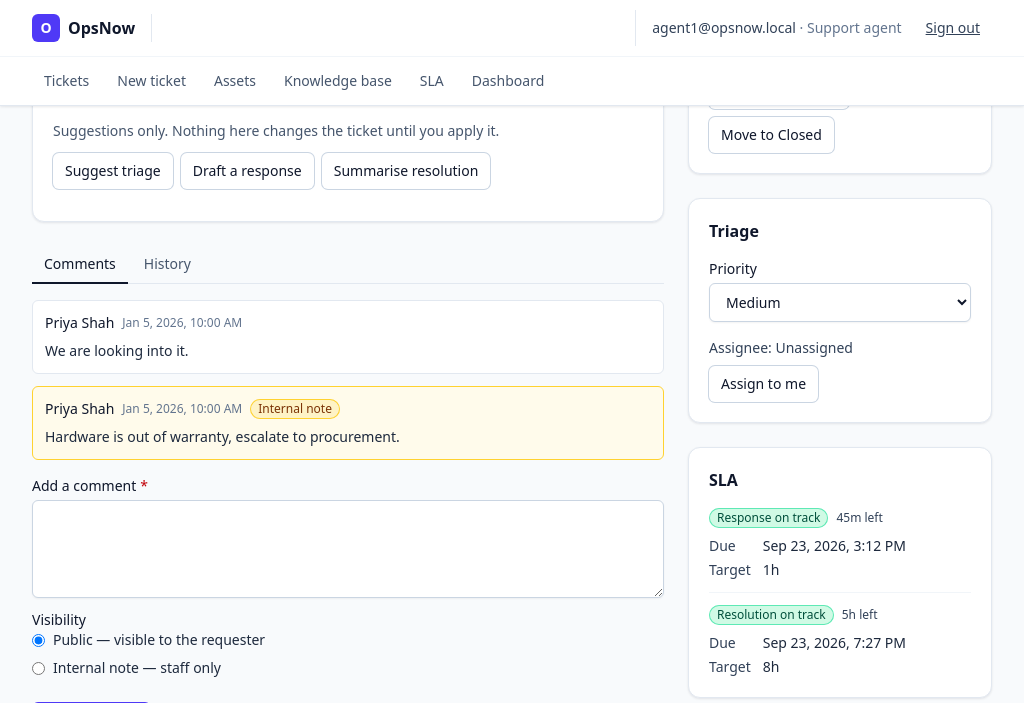
ticket detail — mutations › assigns the ticket to the signed-in agent and then unassigns it
(page scrolled)
Click the button "Assign to me" at {"x": 764, "y": 384}, box [709,366,818,402]
(page scrolled)
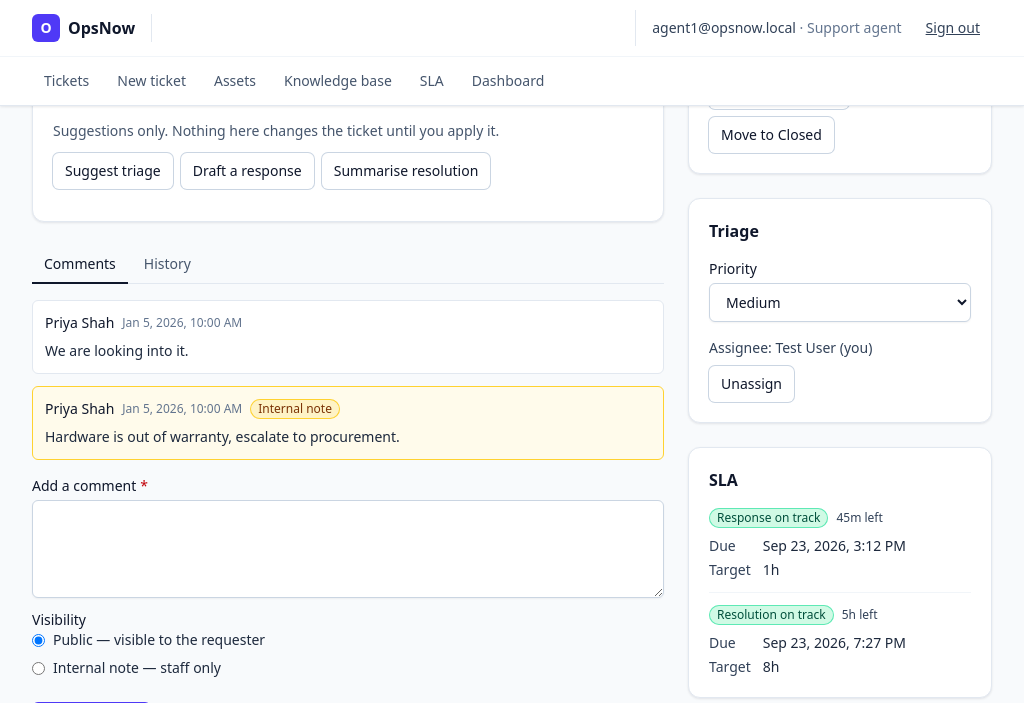
Click the button "Unassign" at {"x": 752, "y": 384}, box [709,366,794,402]
(page scrolled)
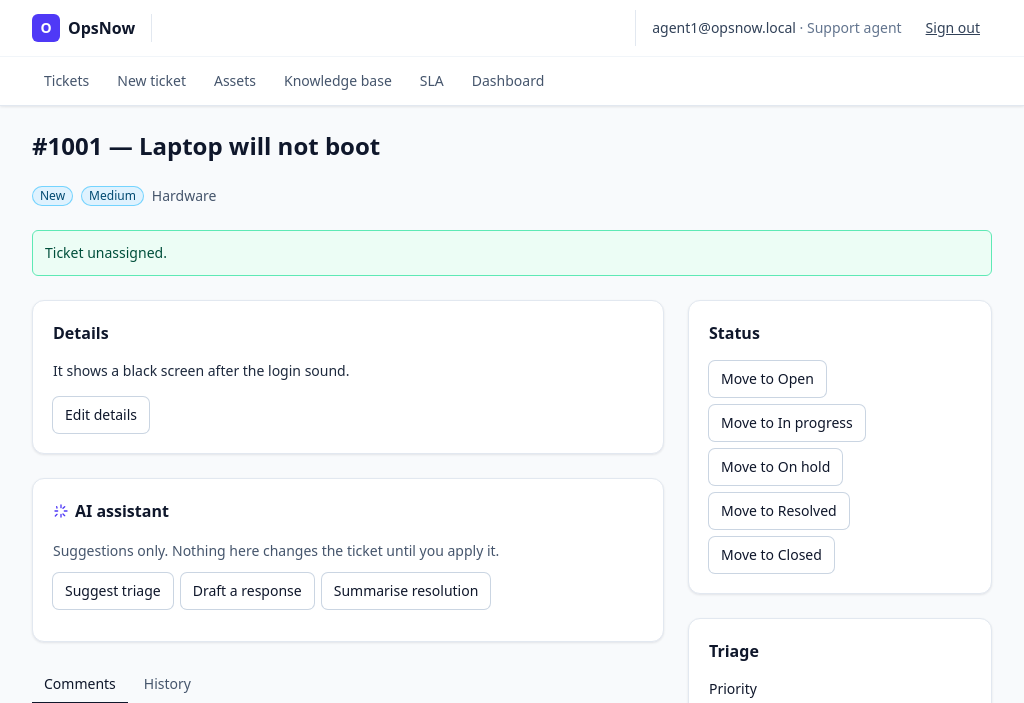
expect the text "Ticket unassigned." is shown: met, box [32,230,992,276]
